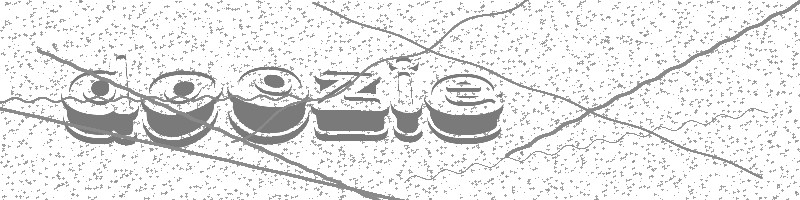d: (59, 53, 140, 146)
e: (424, 72, 502, 144)
i: (390, 54, 425, 144)
o: (225, 65, 311, 147), (140, 69, 219, 149)
z: (310, 68, 391, 142)
